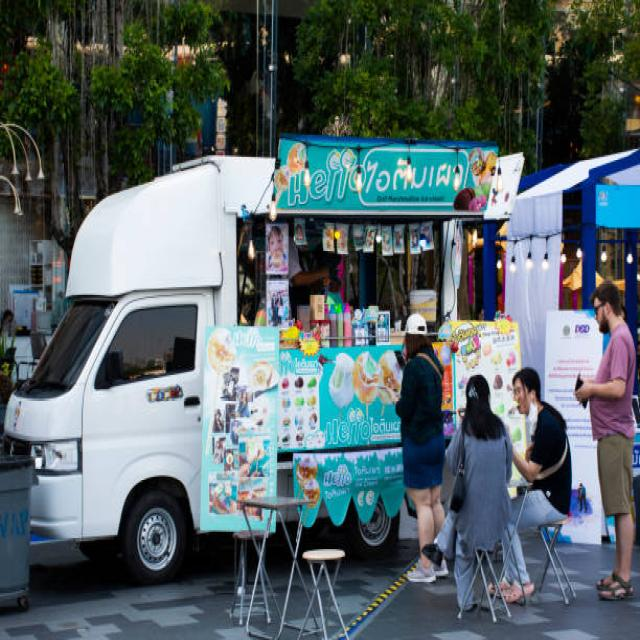Emperan: (0, 134, 555, 577)
